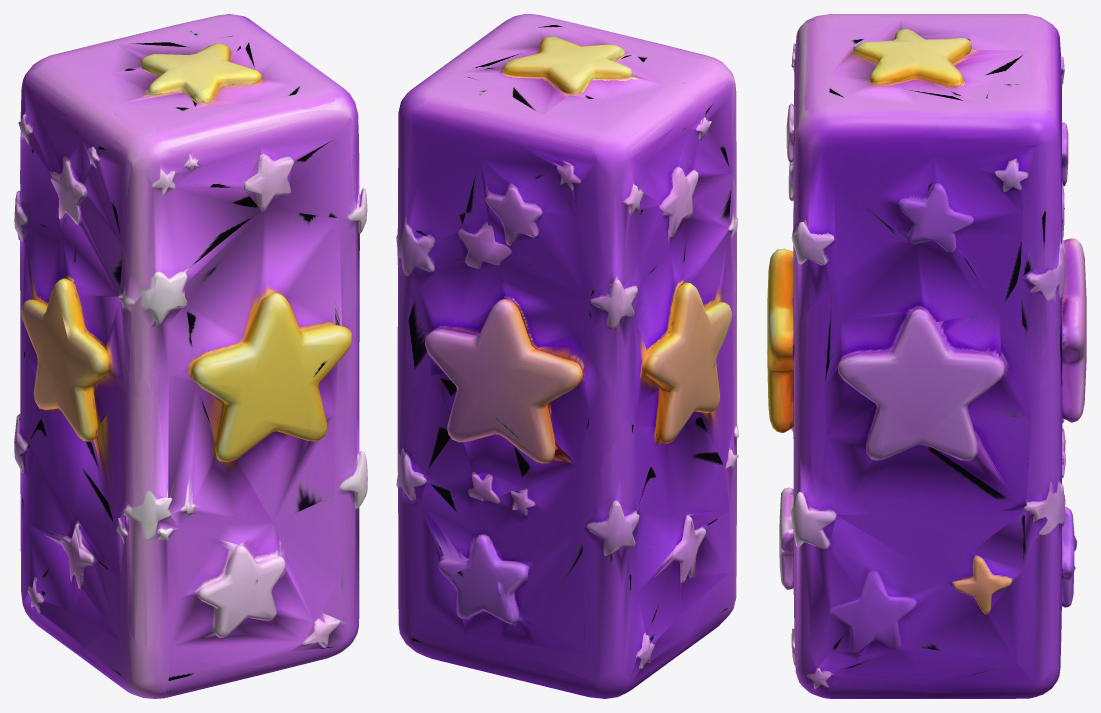
Rendered from mor_dikey_kup_parcali.glb.
The picture shows the model from 3 angles, left to right: view 1: azimuth 30°, elevation 25°; view 2: azimuth 150°, elevation 25°; view 3: azimuth 270°, elevation 25°; orthographic projection. The views are drawn at different scales.
Visible parts, largest first — view 1: p09, p11, p04, p03, p10, p08, p07, p00, p05, p02; view 2: p03, p06, p08, p10, p01, p07, p00, p05, p04, p09, p02; view 3: p02, p01, p03, p09, p11, p00, p05, p06.
Part boxes in pixels (box(x1,y1,x2,y2)): p09: box(117, 76, 367, 394); p11: box(144, 404, 367, 667); p04: box(103, 367, 322, 641); p03: box(15, 14, 294, 202); p10: box(14, 193, 133, 396); p08: box(14, 418, 116, 653); p07: box(16, 333, 107, 574); p00: box(69, 52, 327, 274); p05: box(76, 613, 305, 698); p02: box(318, 276, 359, 421); p03: box(398, 40, 715, 301); p06: box(399, 241, 626, 531); p08: box(498, 499, 725, 698); p10: box(550, 193, 736, 411); p01: box(396, 443, 507, 673); p07: box(580, 364, 720, 526); p00: box(412, 27, 735, 241); p05: box(492, 549, 736, 692); p04: box(714, 284, 738, 554); p09: box(492, 14, 738, 283); p02: box(396, 206, 412, 443); p02: box(776, 233, 1065, 542); p01: box(904, 482, 1077, 698); p03: box(846, 14, 1068, 252); p09: box(767, 18, 887, 383); p11: box(768, 393, 923, 696); p00: box(813, 14, 1064, 253); p05: box(820, 593, 935, 698); p06: box(1055, 238, 1086, 483).
Size of the model in its own units: 0.4722 by 0.9801 by 0.4717.
Materials: 2 (1 with a texture image).
